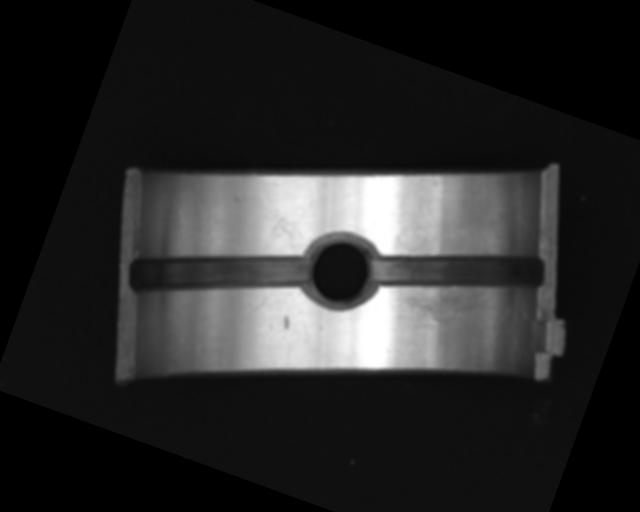bruise: (279, 314, 293, 332)
gap: (125, 204, 313, 345), (369, 205, 550, 333)
hole: (293, 222, 388, 319)
scratch: (390, 264, 498, 342)
